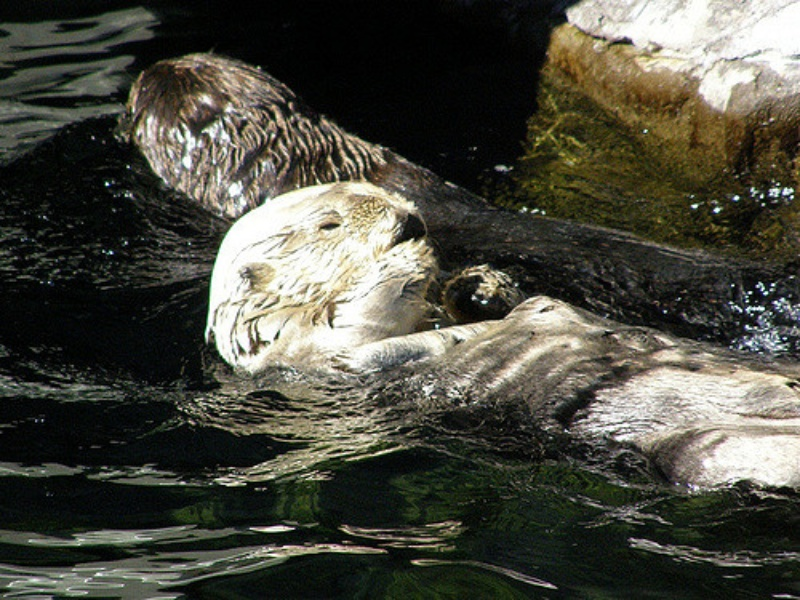minkish: (194, 181, 800, 516)
